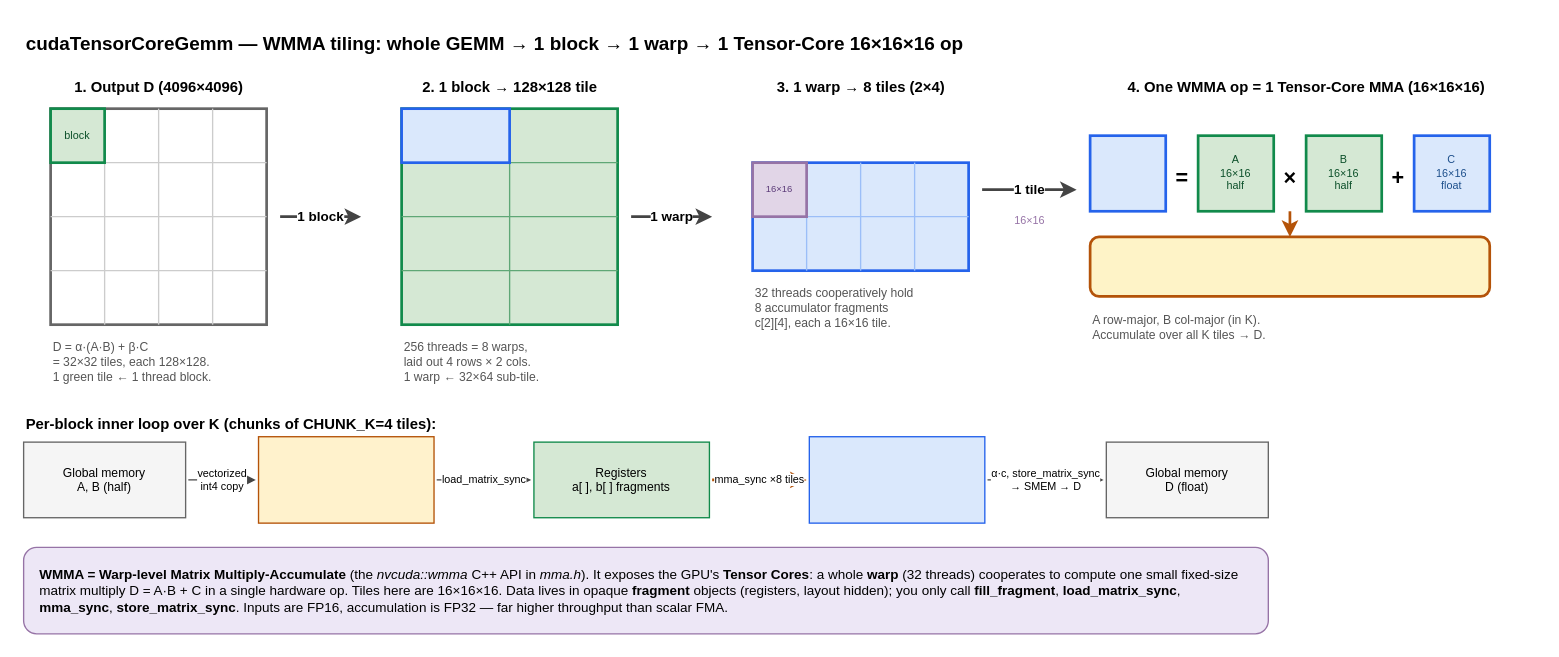
Some shapes in this 1559 by 657 pixel diagram are drawn without their labels. Each missing label, with the centre of its shape:
"Accumulators c[2][4] (float) kept across K loop" goes at point (896, 479).
"D 16×16 float" goes at point (1127, 173).
"Shared memory A & B chunk tiles (+SKEW_HALF pad)" goes at point (345, 479).
"Tensor Core — wmma::mma_sync() all 32 lanes issue ONE fused 16×16×16 MMA" goes at point (1289, 266).
"warp 0" goes at point (455, 135).
